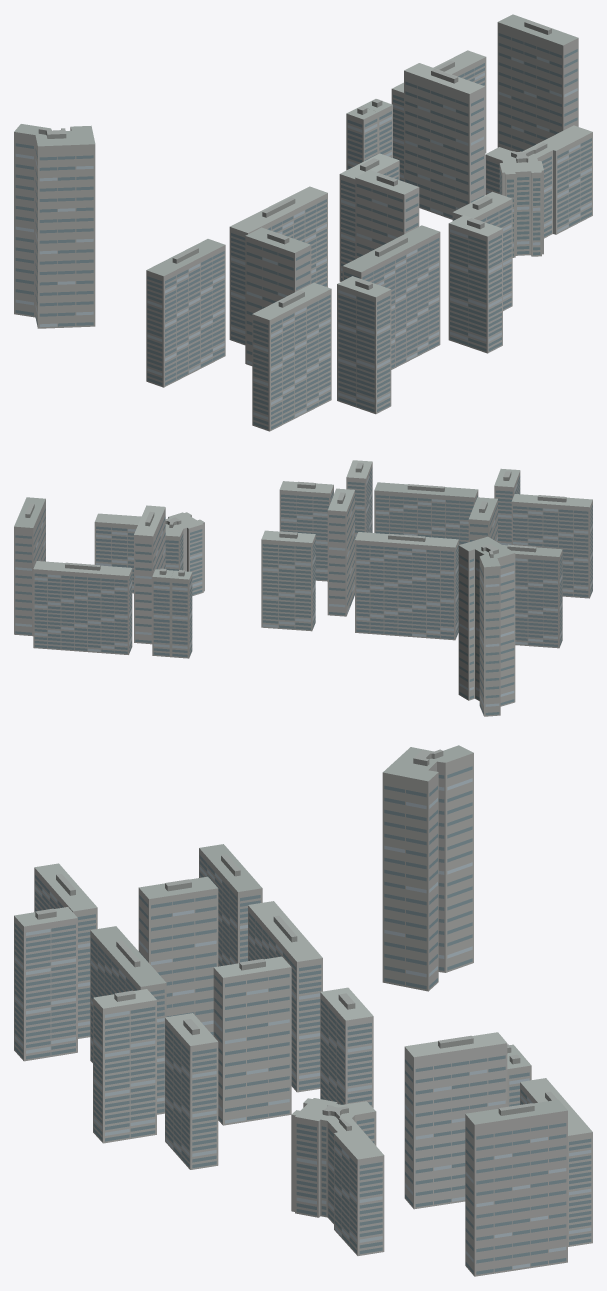
Rendered from apt-a13785607.glb.
3 views of the same model, one above another, from view 1: azimuth 30°, elevation 25°; view 2: azimuth 150°, elevation 25°; view 3: azimuth 270°, elevation 25° (orthographic). The views are drawn at different scales.
Parts seen in each view (by area): view 1: apt-a13785607; view 2: apt-a13785607; view 3: apt-a13785607.
Part boxes in pixels (x1,y1,x2,y2): apt-a13785607: (14, 14, 592, 431); apt-a13785607: (14, 460, 592, 716); apt-a13785607: (14, 745, 592, 1276).
Bounding box in the file's own units: 320 × 100 × 244.
